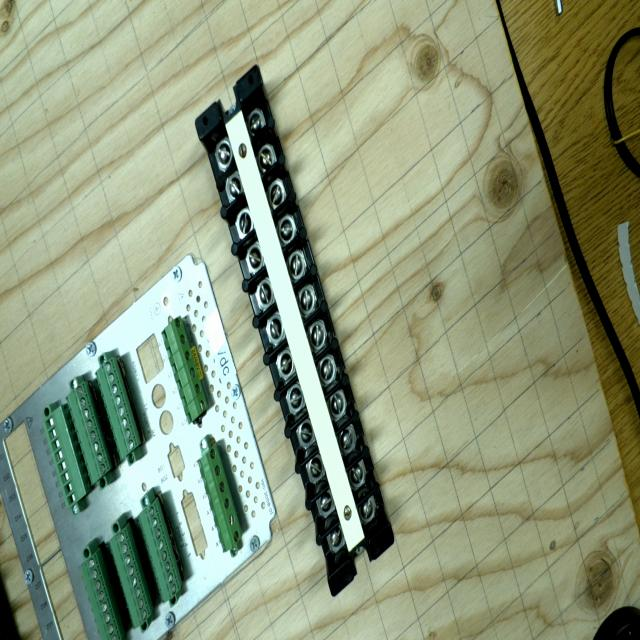Flathead_Block: (185, 65, 405, 596)
Terminal_1: (158, 315, 211, 425), (194, 443, 246, 552)
Terminal_2: (63, 381, 113, 485), (92, 357, 141, 461), (106, 527, 154, 629), (135, 502, 183, 602)
